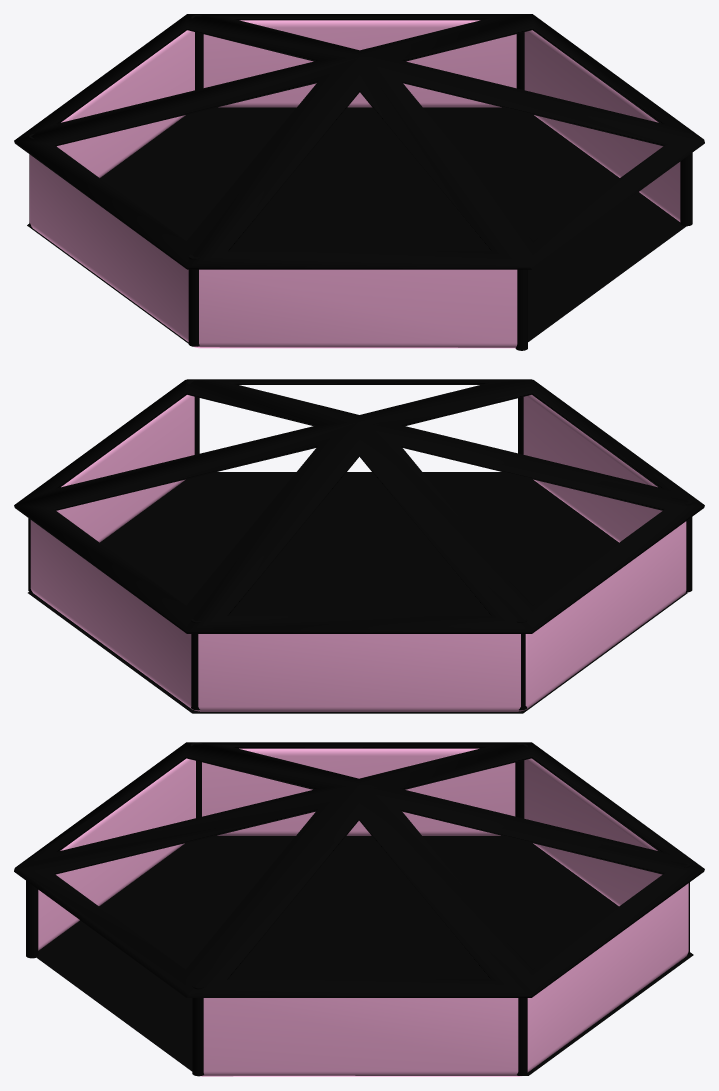
Rendered from museoblack.obj.
The picture shows the model from 3 angles, top to bottom: view 1: azimuth 30°, elevation 25°; view 2: azimuth 150°, elevation 25°; view 3: azimuth 270°, elevation 25°; orthographic projection.
Visible parts, largest first — view 1: Object_18, Object_20, Object_12; view 2: Object_18, Object_20, Object_12; view 3: Object_18, Object_20, Object_12.
Boxes of the visible parts, x1,y1,x2,y2 form: Object_18: [29, 20, 680, 348]; Object_20: [14, 14, 704, 350]; Object_12: [27, 107, 686, 343]; Object_18: [30, 395, 686, 711]; Object_20: [14, 379, 704, 710]; Object_12: [28, 472, 687, 713]; Object_18: [38, 748, 688, 1076]; Object_20: [14, 742, 704, 1076]; Object_12: [35, 835, 693, 1075].
Size of the model in its own units: 37.01 by 11.66 by 42.68.
